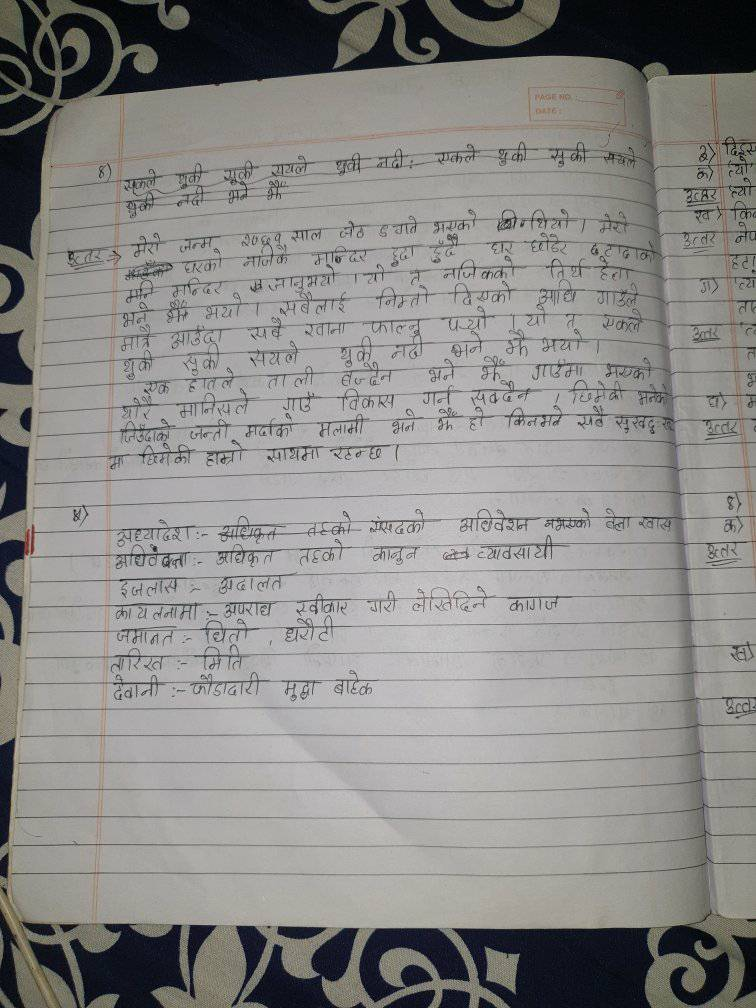text: (476, 536, 564, 565), (410, 585, 492, 616), (111, 520, 193, 547), (452, 508, 531, 534), (186, 675, 265, 699), (443, 257, 521, 281), (364, 509, 433, 536), (176, 395, 252, 419), (110, 603, 201, 622), (109, 647, 172, 674), (268, 269, 341, 292), (112, 548, 188, 570), (466, 384, 542, 406), (214, 573, 288, 595), (203, 442, 255, 473), (293, 540, 350, 567), (566, 380, 624, 406), (212, 544, 277, 567), (448, 283, 513, 306), (280, 294, 351, 315), (440, 306, 494, 333), (600, 309, 650, 338), (114, 577, 182, 598), (112, 675, 164, 702), (280, 619, 338, 643), (245, 343, 303, 367), (290, 596, 352, 618), (503, 593, 562, 616), (140, 446, 199, 469), (602, 354, 655, 379), (264, 445, 324, 467), (503, 410, 565, 431), (368, 542, 422, 566), (332, 672, 376, 701), (377, 287, 431, 310), (109, 627, 177, 645), (428, 210, 481, 233), (331, 443, 389, 464), (242, 420, 302, 440), (363, 318, 421, 338), (315, 417, 370, 438), (116, 423, 173, 443), (281, 676, 323, 703), (533, 285, 582, 308), (544, 509, 595, 531), (170, 327, 226, 347), (199, 648, 245, 672), (337, 391, 398, 409), (528, 207, 571, 232), (221, 599, 274, 619), (596, 284, 644, 306), (201, 623, 251, 644), (338, 368, 393, 387), (364, 589, 400, 618), (182, 348, 222, 374), (613, 412, 658, 435), (339, 339, 375, 367), (540, 333, 588, 354), (603, 241, 656, 260), (309, 248, 371, 264), (266, 370, 318, 389), (66, 241, 104, 267), (242, 246, 289, 267), (203, 295, 240, 321), (532, 362, 588, 379), (528, 233, 571, 255), (187, 420, 232, 441), (117, 397, 157, 420), (634, 385, 674, 408), (388, 410, 422, 437), (246, 319, 285, 342), (545, 259, 587, 280), (179, 253, 223, 273), (127, 234, 167, 256), (184, 375, 237, 391), (604, 507, 631, 538), (420, 385, 458, 407), (423, 359, 459, 382), (122, 353, 155, 378), (638, 515, 679, 535), (447, 336, 486, 357), (302, 320, 350, 337), (576, 407, 606, 434), (596, 261, 634, 282), (599, 214, 632, 237), (464, 407, 492, 434), (122, 329, 156, 351), (171, 281, 228, 294), (281, 394, 318, 414), (430, 407, 458, 433), (120, 304, 153, 326), (504, 332, 532, 357), (176, 235, 216, 252), (393, 215, 422, 238), (391, 341, 426, 360), (237, 231, 284, 245), (431, 236, 462, 256), (478, 359, 503, 383), (165, 302, 192, 323), (291, 226, 325, 242), (142, 379, 172, 397), (336, 222, 366, 240), (392, 244, 415, 267), (67, 505, 91, 526), (525, 310, 550, 330), (487, 239, 516, 255), (366, 265, 385, 285), (563, 310, 579, 329), (109, 455, 126, 470), (409, 269, 422, 284), (378, 222, 389, 239)
